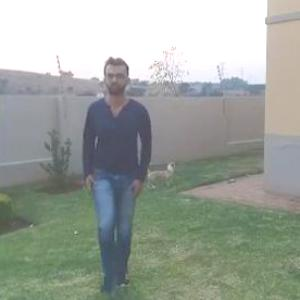follow: (84, 54, 153, 289)
